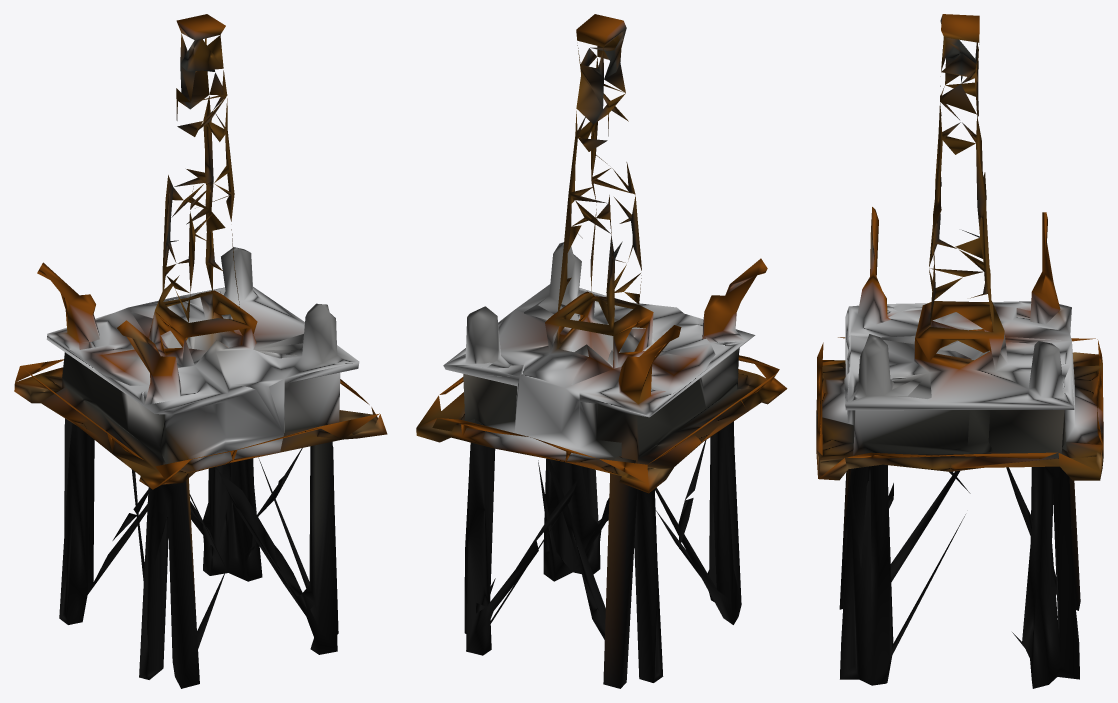
File: gen3d-oil-rig-lod1.glb
3 views of the same model, side by side, from view 1: azimuth 30°, elevation 25°; view 2: azimuth 150°, elevation 25°; view 3: azimuth 270°, elevation 25° (orthographic). The views are drawn at different scales.
Parts seen in each view (by area): view 1: part_0; view 2: part_0; view 3: part_0.
Part boxes in pixels (left/top/right/bottom): part_0: left=14, top=14, right=387, bottom=688; part_0: left=416, top=14, right=787, bottom=688; part_0: left=816, top=14, right=1103, bottom=688.
Bounding box in the file's own units: 0.4083 × 0.9745 × 0.4091.
